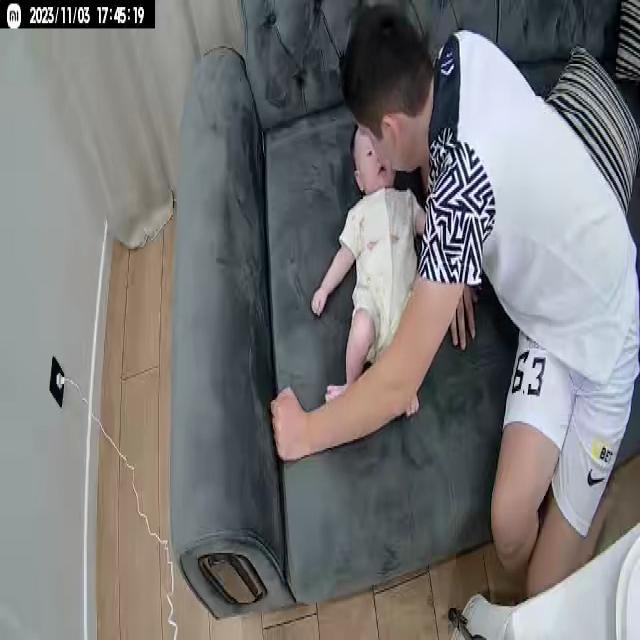baby: (309, 121, 427, 422)
